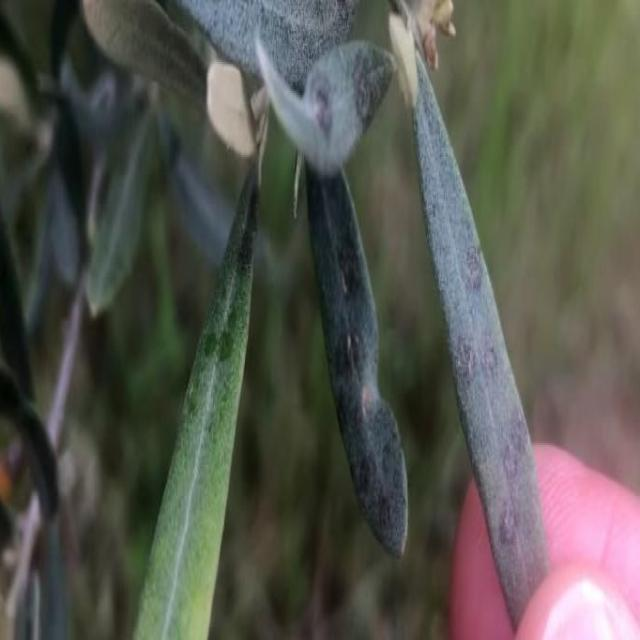OlivePeacockSpot: (414, 85, 547, 572), (133, 168, 261, 638), (306, 162, 407, 547)
